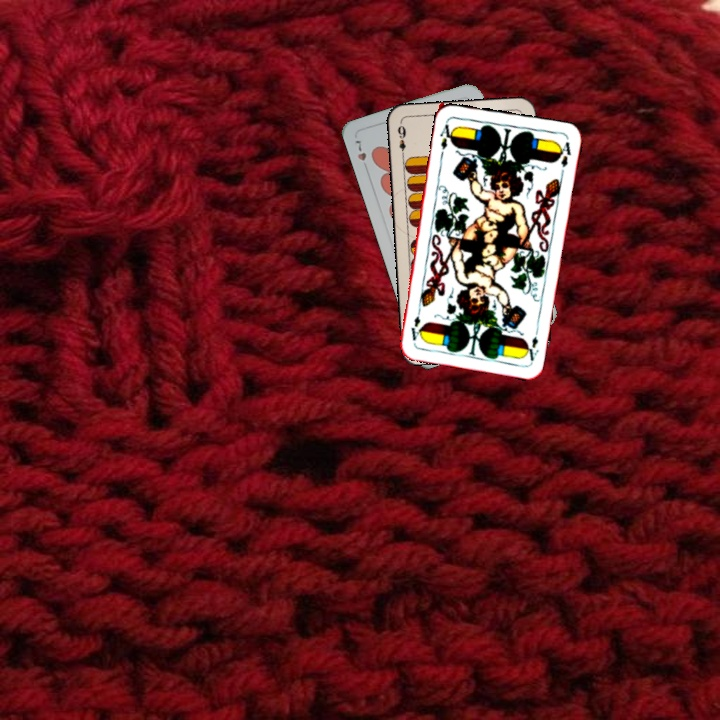E9: (394, 122, 409, 160)
EA: (521, 324, 541, 363), (436, 117, 457, 152)
H7: (351, 136, 371, 174)
